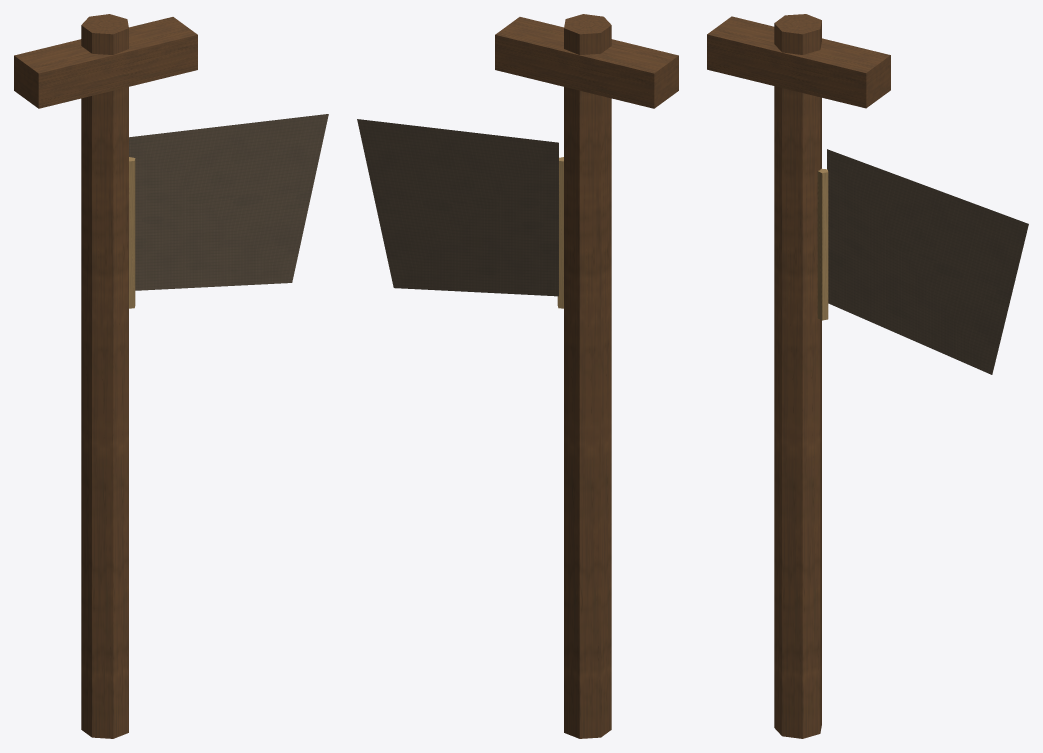
The model's file is en-022_path_marker_stakes__cloth_marked.obj.
The picture shows the model from 3 angles, left to right: view 1: azimuth 30°, elevation 25°; view 2: azimuth 150°, elevation 25°; view 3: azimuth 330°, elevation 25°; orthographic projection.
Parts seen in each view (by area): view 1: en-022_path_marker_stakes__cloth_marked; view 2: en-022_path_marker_stakes__cloth_marked; view 3: en-022_path_marker_stakes__cloth_marked.
Part boxes in pixels (left/top/right/bottom): en-022_path_marker_stakes__cloth_marked: left=14, top=14, right=328, bottom=738; en-022_path_marker_stakes__cloth_marked: left=357, top=14, right=678, bottom=738; en-022_path_marker_stakes__cloth_marked: left=707, top=14, right=1028, bottom=738.
Bounding box in the file's own units: 0.5 × 1.1 × 0.07.
3 materials, 3 textured.
